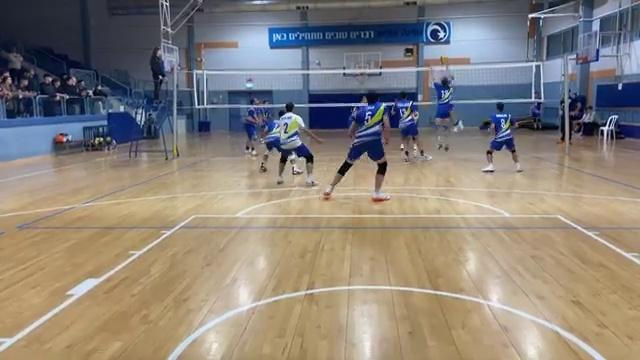ball: (437, 54, 451, 68)
